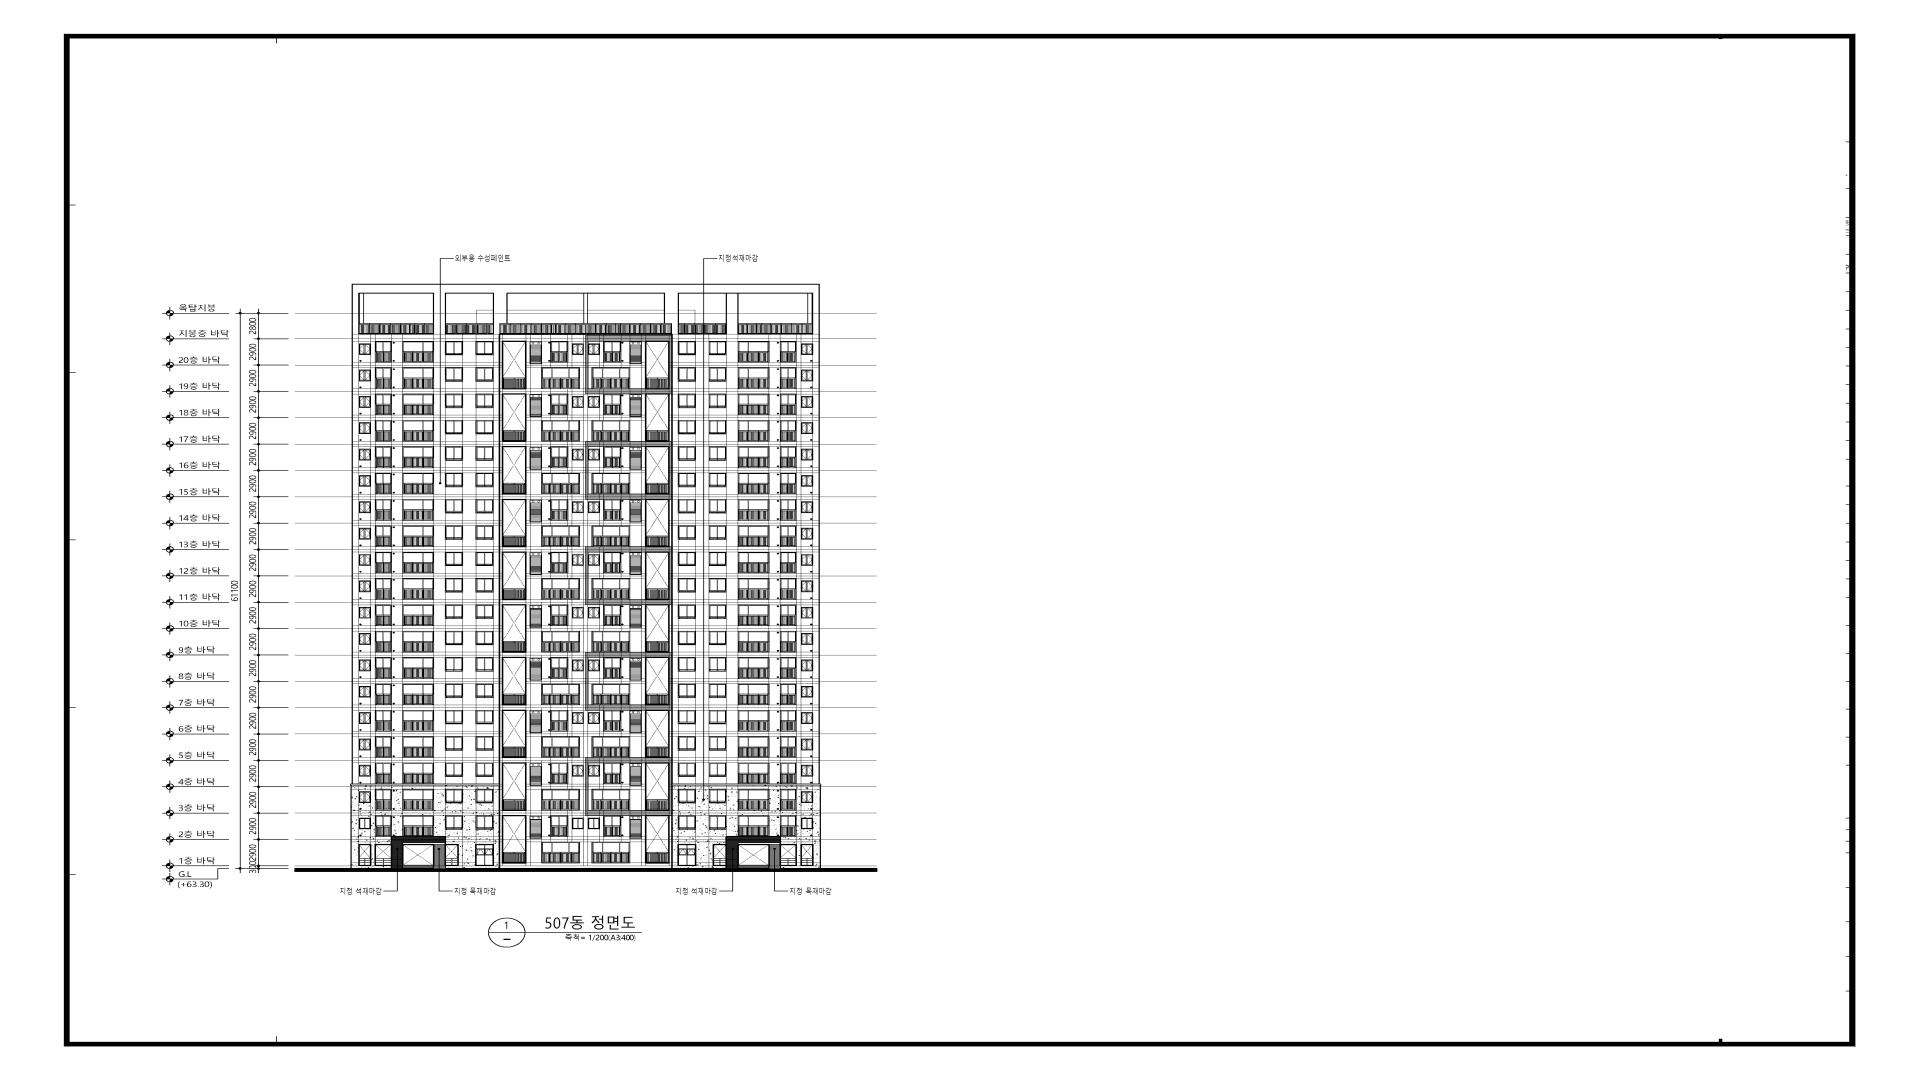door: (402, 844, 434, 869), (738, 844, 770, 868)
wall: (351, 284, 820, 872)
window: (506, 293, 665, 335), (737, 293, 812, 335), (359, 293, 434, 335), (678, 293, 727, 335), (446, 293, 495, 335), (501, 709, 526, 758), (501, 604, 526, 653), (501, 551, 526, 600), (501, 446, 526, 495), (501, 393, 526, 442), (501, 340, 526, 389), (501, 815, 526, 864), (645, 762, 670, 811), (645, 709, 670, 758), (645, 657, 670, 705), (645, 604, 670, 653), (645, 551, 670, 600), (645, 498, 670, 547), (645, 446, 670, 495), (645, 340, 670, 389), (645, 816, 670, 864), (645, 394, 670, 442), (502, 762, 526, 811), (502, 657, 526, 705), (502, 498, 526, 547), (541, 841, 580, 864), (541, 789, 580, 811), (541, 736, 580, 758), (541, 683, 580, 705), (541, 630, 580, 653), (541, 578, 580, 600), (541, 472, 580, 495), (591, 578, 630, 600), (591, 525, 630, 547), (542, 525, 580, 547), (592, 736, 630, 758), (592, 683, 630, 705), (541, 421, 580, 442), (541, 368, 580, 389), (591, 368, 630, 389), (592, 843, 630, 864), (592, 789, 630, 810), (592, 632, 630, 653), (592, 473, 630, 495), (592, 421, 630, 442), (737, 736, 769, 758), (402, 815, 434, 837), (402, 736, 434, 758), (402, 657, 434, 679), (402, 604, 434, 626), (402, 578, 434, 600), (402, 525, 434, 547), (737, 709, 769, 732), (738, 683, 770, 705), (737, 604, 769, 626), (737, 578, 769, 600), (737, 367, 769, 389), (738, 789, 769, 811), (738, 762, 769, 785), (402, 394, 434, 415), (402, 368, 434, 389), (402, 342, 434, 363), (402, 790, 434, 811), (402, 764, 434, 785), (402, 711, 434, 732), (402, 683, 434, 704), (402, 632, 434, 653), (402, 553, 434, 574), (402, 500, 434, 521), (402, 473, 434, 495), (402, 447, 434, 468), (402, 421, 434, 442), (737, 658, 769, 679), (737, 553, 769, 574), (737, 526, 769, 547), (737, 473, 769, 495), (737, 394, 769, 415), (737, 342, 769, 363), (738, 815, 769, 836), (738, 632, 769, 653), (738, 500, 769, 521), (738, 447, 769, 468), (738, 421, 769, 442), (603, 815, 621, 837), (603, 762, 621, 785), (603, 657, 621, 679), (603, 604, 621, 626), (550, 815, 568, 837), (550, 657, 568, 679), (550, 604, 568, 626), (603, 553, 621, 574), (603, 500, 621, 521), (603, 447, 621, 468), (603, 394, 621, 415), (603, 342, 621, 363), (550, 500, 568, 521), (550, 447, 568, 468), (550, 394, 568, 415), (550, 342, 568, 363), (603, 711, 621, 732), (550, 711, 568, 732), (550, 553, 568, 574), (779, 657, 796, 679), (779, 604, 796, 626), (779, 578, 796, 600), (779, 551, 796, 574), (779, 525, 796, 547), (779, 472, 796, 495), (375, 815, 392, 837), (375, 789, 392, 811), (375, 762, 392, 785), (375, 736, 392, 758), (375, 709, 392, 732), (375, 657, 392, 679), (375, 630, 392, 653), (375, 578, 392, 600), (375, 525, 392, 547), (375, 446, 392, 468), (375, 393, 392, 415), (375, 367, 392, 389), (779, 446, 796, 468), (779, 367, 796, 389), (779, 815, 796, 837), (779, 789, 796, 811), (779, 762, 796, 785), (779, 736, 796, 758), (779, 683, 796, 704), (779, 632, 796, 653), (779, 500, 796, 521), (375, 684, 392, 705), (375, 605, 392, 626), (375, 553, 392, 574), (375, 500, 392, 521), (375, 473, 392, 495), (375, 421, 392, 442), (375, 342, 392, 363), (779, 421, 796, 442), (779, 394, 796, 415), (551, 764, 568, 785), (781, 342, 796, 363), (781, 711, 796, 732), (629, 762, 642, 786), (629, 816, 642, 839), (629, 711, 642, 733), (629, 658, 642, 680), (629, 605, 642, 628), (629, 500, 642, 522), (629, 447, 642, 469), (629, 394, 642, 417), (629, 342, 642, 364), (529, 711, 542, 733), (529, 658, 542, 680), (629, 551, 641, 575), (475, 736, 493, 750), (475, 578, 493, 592), (444, 815, 463, 829), (444, 789, 463, 803), (444, 762, 463, 777), (444, 736, 463, 750), (678, 657, 696, 671), (678, 604, 696, 618), (678, 578, 696, 592), (678, 551, 696, 566), (678, 525, 696, 539), (708, 472, 727, 487), (708, 447, 727, 462), (444, 683, 463, 698), (444, 657, 463, 671), (444, 630, 463, 645), (444, 604, 463, 618), (444, 578, 463, 592), (444, 472, 463, 487), (444, 340, 463, 355), (475, 815, 493, 829), (476, 789, 495, 803), (678, 789, 696, 803), (678, 473, 696, 488), (708, 815, 727, 829), (708, 789, 727, 803), (708, 762, 727, 777), (708, 736, 727, 750), (708, 683, 727, 698), (708, 604, 727, 618), (708, 578, 727, 592), (708, 551, 727, 566), (530, 816, 542, 839), (530, 764, 542, 786), (530, 605, 542, 628), (530, 553, 542, 575), (530, 500, 542, 522), (530, 447, 542, 469), (530, 394, 542, 417), (530, 342, 542, 364), (476, 709, 493, 724), (476, 683, 493, 698), (476, 657, 493, 671), (476, 551, 493, 566), (375, 844, 392, 858), (779, 844, 796, 858), (476, 446, 493, 460), (475, 632, 493, 645), (475, 605, 493, 618), (678, 764, 696, 777), (678, 737, 696, 750), (678, 711, 696, 724), (678, 684, 696, 698), (678, 632, 696, 645), (708, 421, 727, 434), (708, 394, 727, 407), (708, 368, 727, 381), (708, 342, 727, 355), (444, 711, 463, 724), (444, 553, 463, 566), (444, 526, 463, 539), (444, 500, 463, 513), (444, 447, 463, 460), (444, 421, 463, 434), (444, 394, 463, 407), (444, 368, 463, 381), (475, 764, 493, 777), (475, 421, 493, 434), (475, 368, 493, 381), (678, 816, 696, 829), (678, 500, 696, 513), (678, 447, 696, 460), (678, 421, 696, 434), (678, 394, 696, 407), (678, 368, 696, 381), (678, 342, 696, 355), (708, 711, 727, 724), (708, 658, 727, 671), (708, 632, 727, 645), (708, 526, 727, 539), (708, 500, 727, 513), (676, 844, 687, 866), (484, 844, 495, 866), (476, 526, 493, 539), (476, 500, 493, 513), (476, 473, 493, 487), (476, 394, 493, 407), (476, 342, 493, 355), (444, 844, 459, 858), (712, 844, 727, 858), (687, 844, 696, 866), (475, 844, 484, 866), (800, 844, 814, 858), (359, 844, 372, 858), (800, 607, 814, 618), (800, 554, 814, 566), (800, 475, 814, 487), (800, 448, 814, 460), (800, 422, 814, 434), (800, 343, 814, 355), (800, 765, 814, 777), (800, 738, 814, 750), (800, 712, 814, 724), (800, 686, 814, 698), (800, 659, 814, 671), (571, 818, 584, 829), (571, 712, 584, 724), (571, 501, 584, 513), (571, 448, 584, 460), (587, 501, 600, 513), (800, 580, 812, 592), (800, 501, 812, 513), (359, 607, 371, 618), (359, 580, 371, 592), (359, 554, 371, 566), (359, 527, 371, 539), (359, 475, 371, 487), (359, 422, 371, 434), (359, 396, 371, 407), (359, 369, 371, 381), (588, 448, 600, 460), (588, 396, 600, 407), (588, 343, 600, 355), (359, 818, 371, 829), (359, 791, 371, 803), (359, 765, 371, 777), (359, 738, 371, 750), (359, 712, 371, 724), (359, 686, 371, 698), (359, 659, 371, 671), (359, 633, 371, 645), (800, 818, 812, 829), (800, 791, 812, 803), (800, 633, 812, 645), (588, 818, 600, 829), (572, 765, 584, 777), (572, 659, 584, 671), (572, 607, 584, 618), (572, 396, 584, 407), (572, 343, 584, 355), (588, 765, 600, 777), (588, 712, 600, 724), (588, 659, 600, 671), (588, 607, 600, 618), (588, 554, 600, 566), (800, 529, 814, 539), (800, 371, 814, 381), (359, 502, 371, 513), (359, 450, 371, 460), (800, 397, 812, 407), (359, 344, 371, 355), (572, 555, 584, 566)
